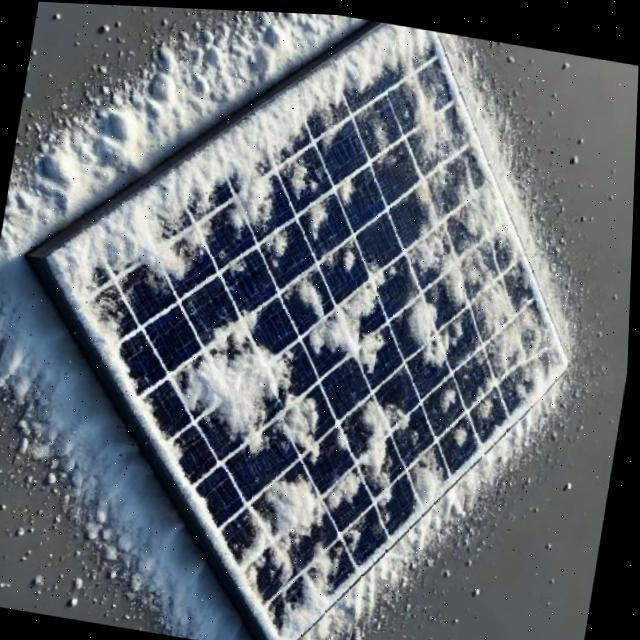Anomaly Solar Panel: (19, 19, 632, 640)
Snow: (17, 19, 632, 640), (66, 69, 620, 621), (162, 299, 359, 504), (279, 255, 399, 378), (321, 231, 370, 276), (305, 196, 334, 236), (336, 167, 361, 208)
